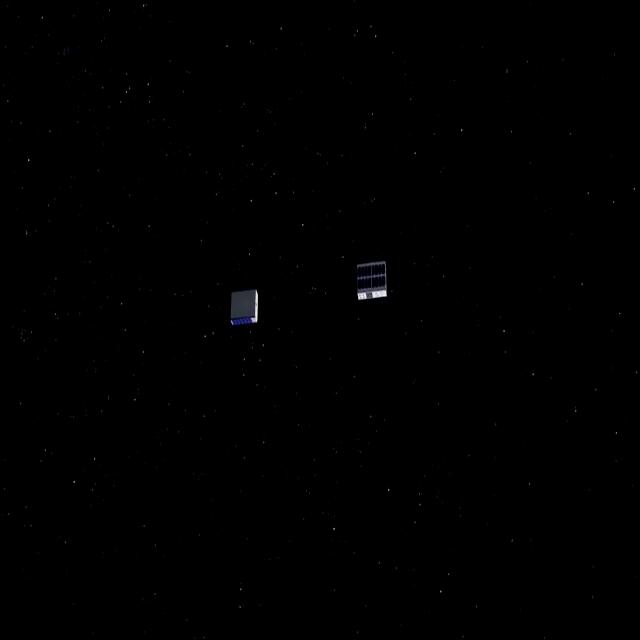large_debris: (350, 251, 397, 314), (226, 282, 262, 334)
